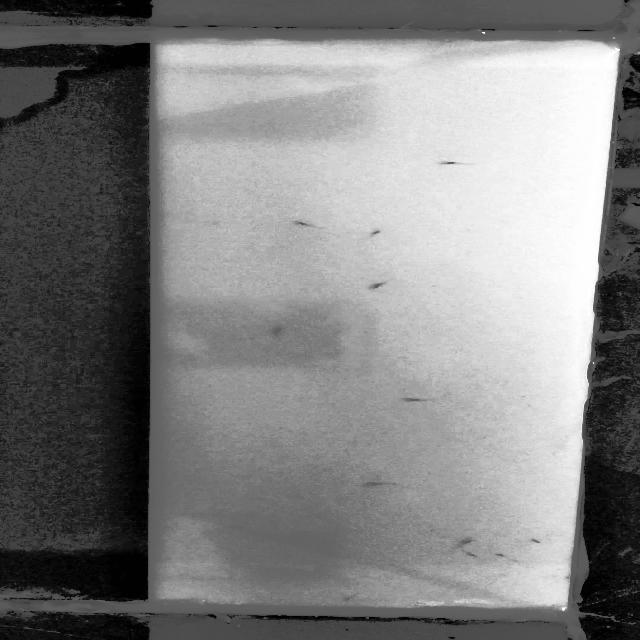shrimp: (358, 274, 404, 293), (428, 156, 484, 170), (285, 215, 324, 232), (397, 392, 436, 408), (336, 587, 363, 608), (443, 535, 487, 547), (448, 548, 493, 559), (358, 224, 399, 236), (359, 476, 399, 488), (485, 548, 519, 560), (518, 536, 552, 546), (264, 326, 295, 336)
